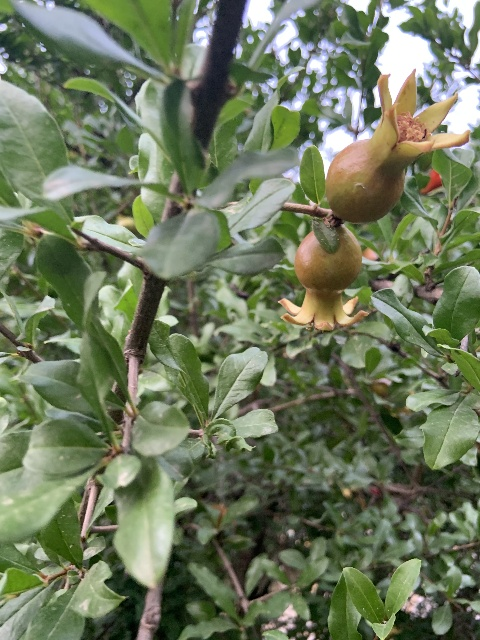early-fruit: (325, 67, 469, 223), (278, 225, 370, 332)
